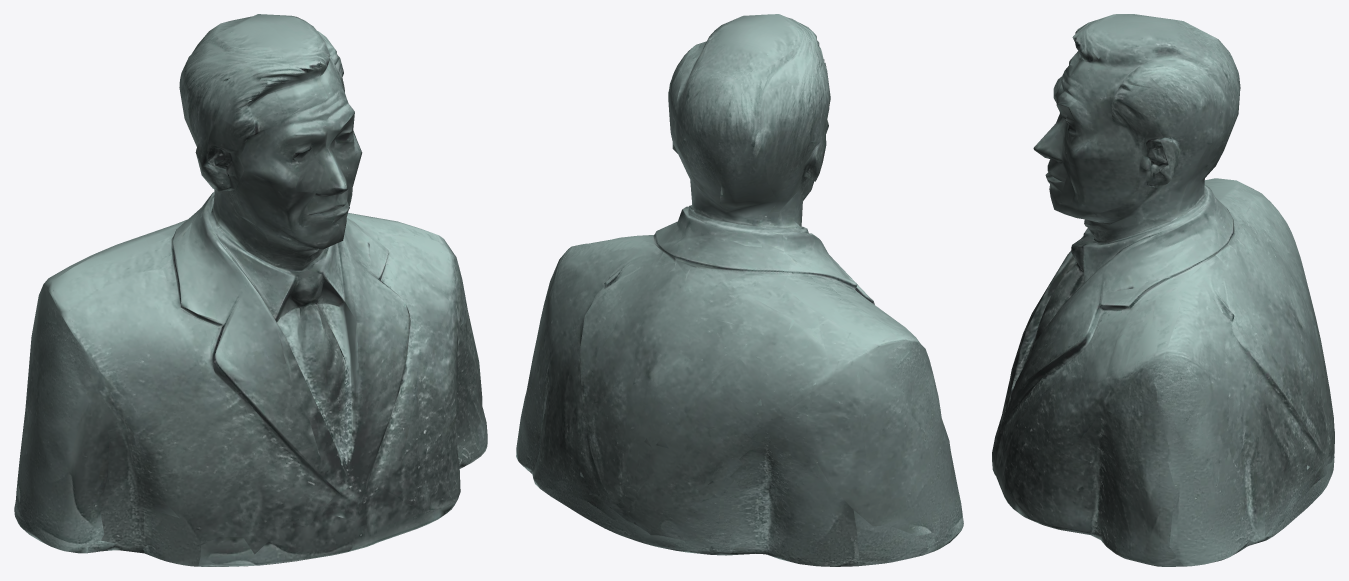
File: bust-hq-lo.glb
3 renders of one model, left to right at view 1: azimuth 30°, elevation 25°; view 2: azimuth 150°, elevation 25°; view 3: azimuth 270°, elevation 25°, orthographic. The views are drawn at different scales.
Visible parts, largest first — view 1: bustHQ; view 2: bustHQ; view 3: bustHQ.
Boxes of the visible parts, box(x1,y1,x2,y2) form: bustHQ: box(14, 14, 487, 566); bustHQ: box(516, 14, 963, 566); bustHQ: box(992, 14, 1334, 566).
Size of the model in its own units: 0.6189 by 0.6237 by 0.4353.
Materials: 1 (1 with a texture image).
